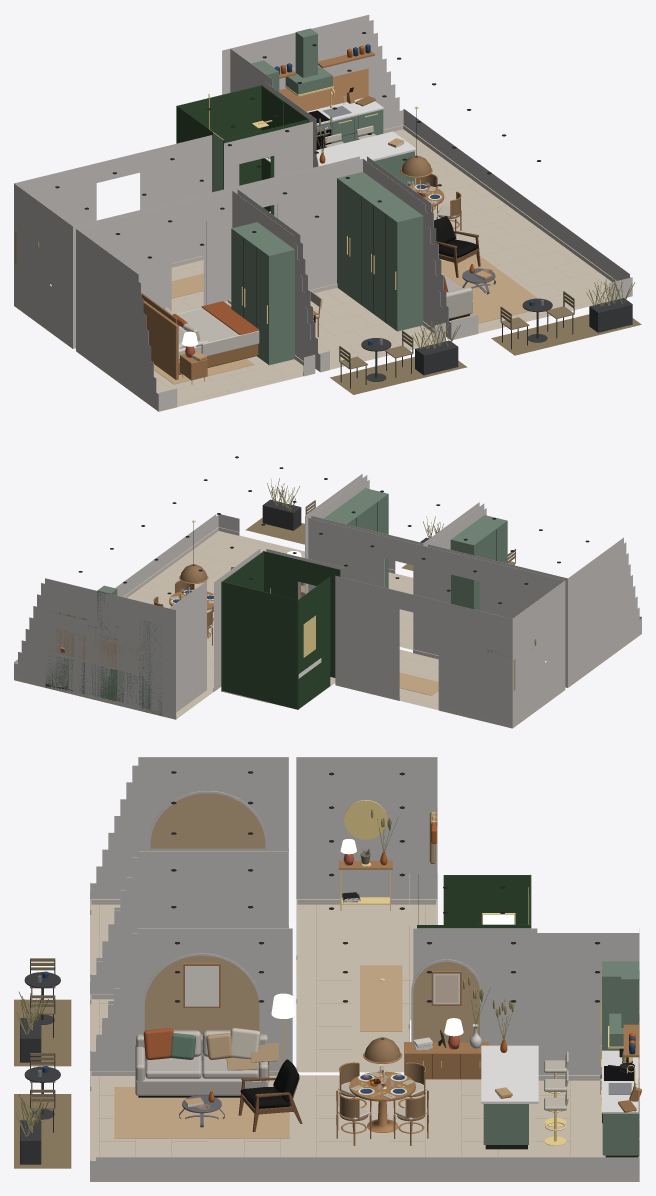
File: unit-2.C-riviera.glb
3 renders of one model, top to bottom at view 1: azimuth 30°, elevation 25°; view 2: azimuth 150°, elevation 25°; view 3: azimuth 270°, elevation 25°, orthographic. The views are drawn at different scales.
Visible parts, largest first — view 1: int-wall, int-floor, int-joineryTall, int-showerWall, int-outdoor, int-rug, int-deck, int-joinery, int-wood, int-skirting, int-worktop, int-bathWall (+11 smaller); view 2: int-wall, int-bathWall, int-joineryTall, int-floor, int-skirting, int-joinery, int-hallFloor, int-outdoor, int-splash, int-deck, int-rug, int-inst-grass|grassBlade (+1 smaller); view 3: int-wall, int-floor, int-hallFloor, int-feature, int-rug, int-wood, int-sofa, int-deck, int-joinery, int-skirting, int-bathWall, int-worktop (+23 smaller).
Part boxes in pixels (x1=…): int-wall: x1=14, y1=14, x2=632, y2=407; int-floor: x1=154, y1=129, x2=611, y2=406; int-joineryTall: x1=231, y1=60, x2=423, y2=365; int-showerWall: x1=208, y1=85, x2=283, y2=211; int-outdoor: x1=339, y1=294, x2=632, y2=388; int-rug: x1=154, y1=254, x2=537, y2=384; int-deck: x1=330, y1=314, x2=641, y2=394; int-joinery: x1=285, y1=28, x2=414, y2=184; int-wood: x1=143, y1=50, x2=444, y2=380; int-skirting: x1=14, y1=125, x2=632, y2=411; int-worktop: x1=264, y1=98, x2=416, y2=166; int-bathWall: x1=176, y1=85, x2=309, y2=215; int-wall: x1=14, y1=474, x2=641, y2=724; int-bathWall: x1=221, y1=551, x2=340, y2=709; int-joineryTall: x1=139, y1=488, x2=507, y2=715; int-floor: x1=127, y1=531, x2=413, y2=718; int-skirting: x1=14, y1=527, x2=641, y2=728; int-joinery: x1=45, y1=585, x2=138, y2=703; int-hallFloor: x1=399, y1=649, x2=438, y2=710; int-outdoor: x1=262, y1=499, x2=515, y2=565; int-splash: x1=49, y1=628, x2=138, y2=668; int-deck: x1=245, y1=517, x2=413, y2=570; int-rug: x1=399, y1=672, x2=438, y2=695; int-inst-grass|grassBlade: x1=267, y1=478, x2=444, y2=538; int-wall: x1=90, y1=757, x2=639, y2=1176; int-floor: x1=90, y1=904, x2=605, y2=1160; int-hallFloor: x1=296, y1=904, x2=436, y2=1072; int-feature: x1=144, y1=793, x2=479, y2=1042; int-rug: x1=114, y1=965, x2=402, y2=1138; int-wood: x1=183, y1=807, x2=641, y2=1132; int-sofa: x1=135, y1=1030, x2=268, y2=1095; int-deck: x1=14, y1=999, x2=71, y2=1168; int-joinery: x1=483, y1=970, x2=639, y2=1155; int-skirting: x1=90, y1=899, x2=639, y2=1181; int-bathWall: x1=417, y1=874, x2=531, y2=928; int-worktop: x1=481, y1=1045, x2=639, y2=1113.
Bounding box in the file's own units: 10.9 × 2.8 × 10.39.
